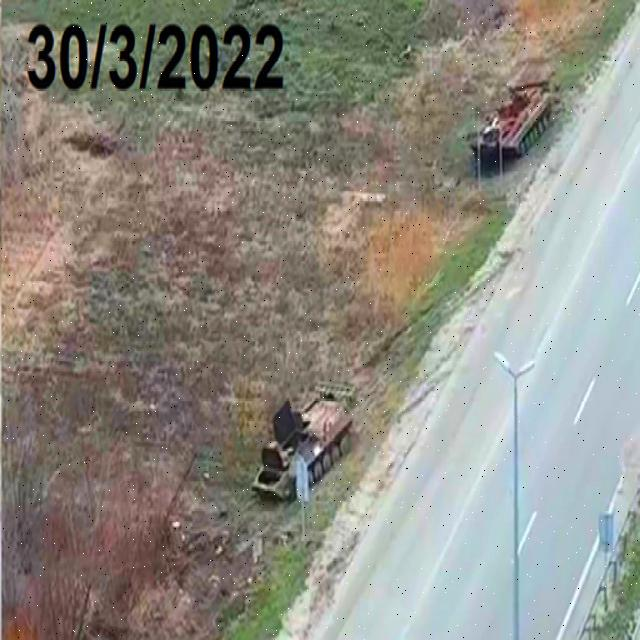APC-IFV: (254, 365, 365, 511), (470, 60, 559, 171)
